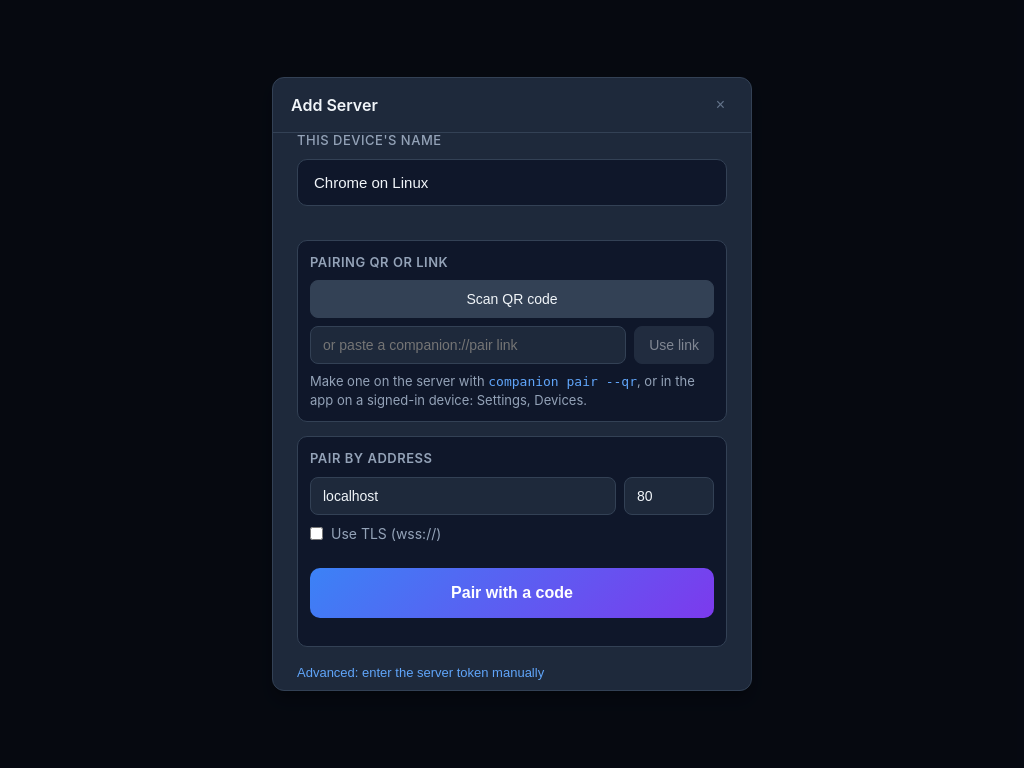
Test: AddServerFlow › rejects a link that is not a pairing link
In the field with placeholder "or paste a companion://pair link": coordinates (468, 345) top-left (310, 326), bottom-right (626, 364), type "https://example.com"
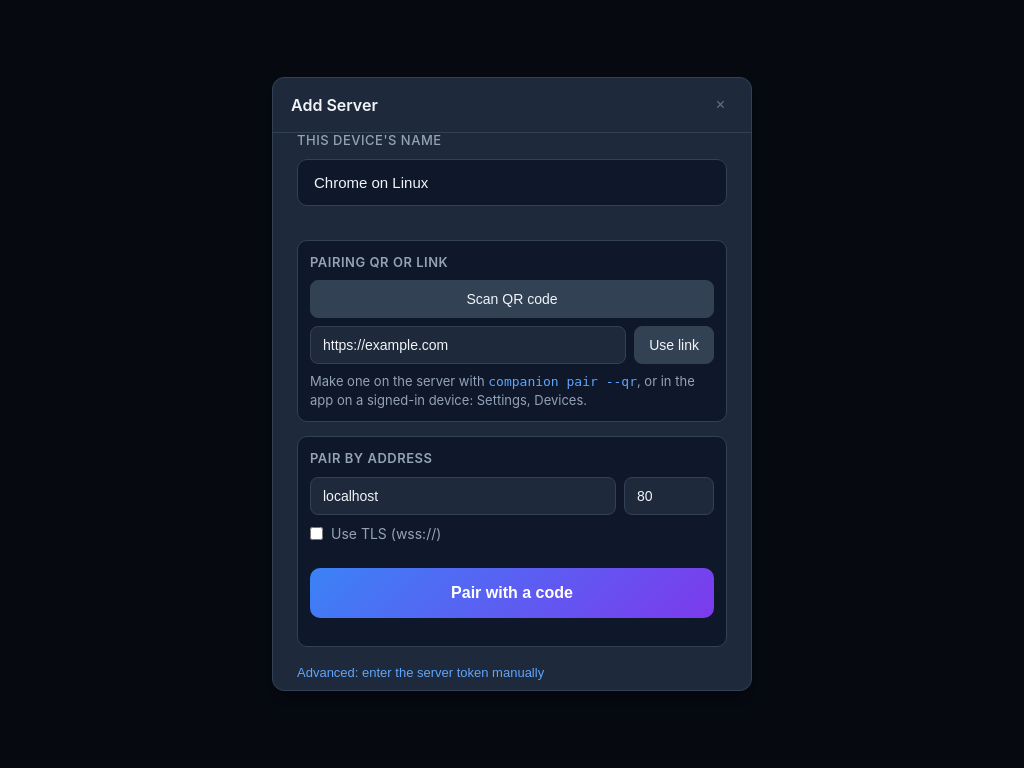
Click the button "Use link": coordinates (674, 345) top-left (634, 326), bottom-right (714, 364)
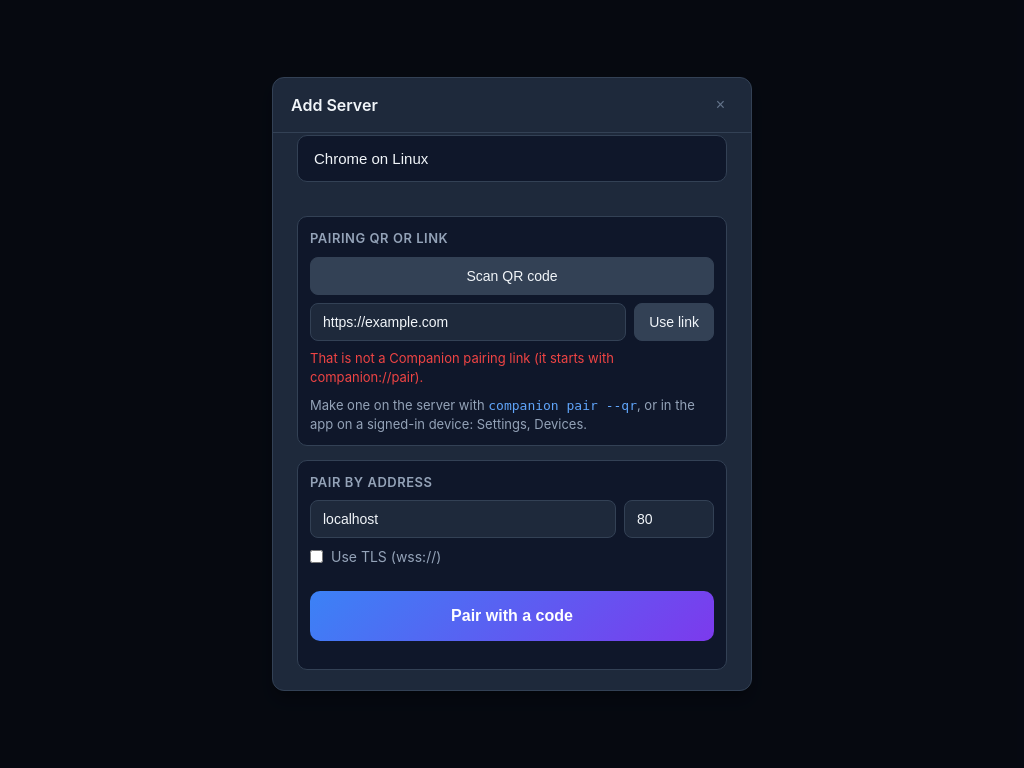
Check: the text "not a Companion pairing link" is shown, box top-left (310, 350), bottom-right (614, 385)
